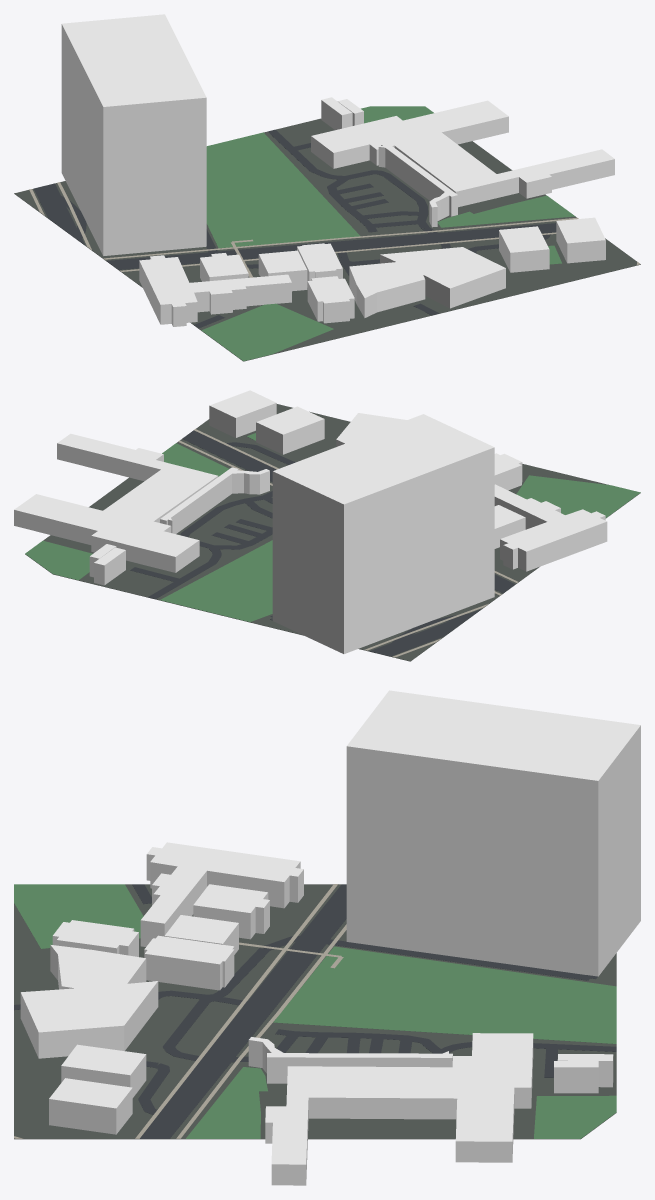
File: tile_007_009.glb
3 views of the same model, one above another, from view 1: azimuth 30°, elevation 25°; view 2: azimuth 150°, elevation 25°; view 3: azimuth 270°, elevation 25° (orthographic). The views are drawn at different scales.
Visible parts, largest first — view 1: tile_007_009_buildings_neutral, tile_007_009_buildings_office, tile_007_009_open_spaces, tile_007_009_ground, tile_007_009_roads, tile_007_009_paths; view 2: tile_007_009_buildings_office, tile_007_009_buildings_neutral, tile_007_009_ground, tile_007_009_open_spaces, tile_007_009_roads, tile_007_009_paths; view 3: tile_007_009_buildings_office, tile_007_009_buildings_neutral, tile_007_009_open_spaces, tile_007_009_ground, tile_007_009_roads, tile_007_009_paths.
Part boxes in pixels (x1,y1,x2,y2): tile_007_009_buildings_neutral: (139,97,614,326); tile_007_009_buildings_office: (61,14,206,255); tile_007_009_open_spaces: (201,106,575,361); tile_007_009_ground: (14,118,640,361); tile_007_009_roads: (34,129,556,328); tile_007_009_paths: (29,182,639,277); tile_007_009_buildings_office: (272,414,494,653); tile_007_009_buildings_neutral: (14,390,607,585); tile_007_009_ground: (25,404,640,661); tile_007_009_open_spaces: (25,433,640,621); tile_007_009_roads: (130,430,515,656); tile_007_009_paths: (178,429,517,657); tile_007_009_buildings_office: (346,690,640,976); tile_007_009_buildings_neutral: (20,842,613,1185); tile_007_009_open_spaces: (14,884,616,1138); tile_007_009_ground: (14,884,616,1139); tile_007_009_roads: (14,884,616,1138); tile_007_009_paths: (14,884,346,1138).
Bounding box in the file's own units: 311 × 89.76 × 260.
